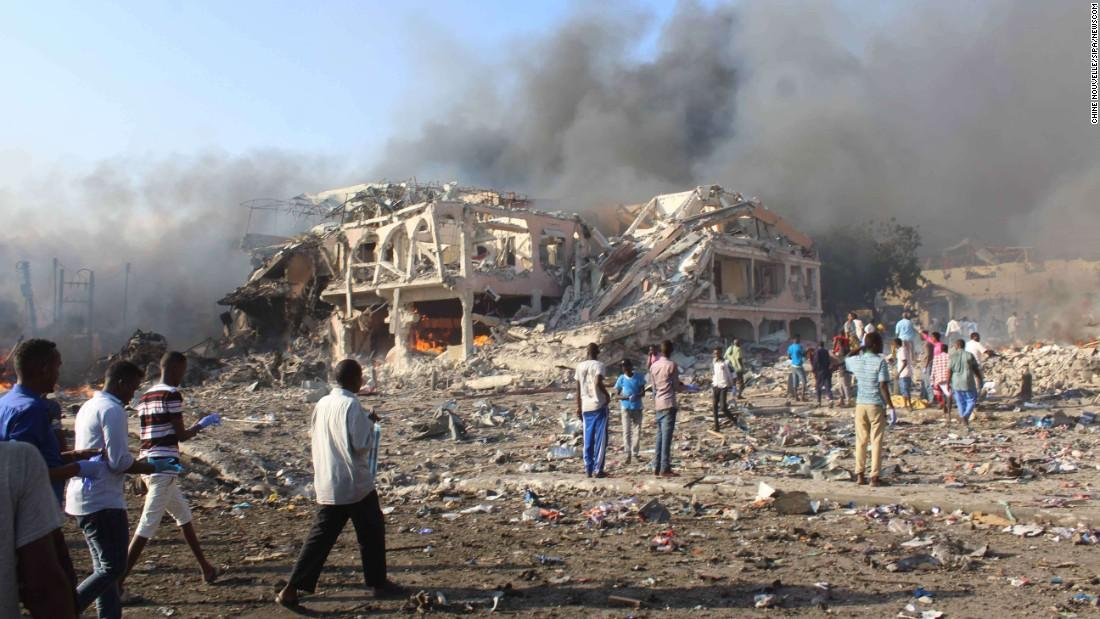fire: (415, 331, 444, 356), (74, 383, 98, 398), (472, 334, 493, 348), (0, 381, 12, 392)
smoke: (451, 1, 1090, 193), (0, 162, 224, 338), (791, 197, 1100, 258), (225, 148, 294, 236), (375, 125, 449, 187), (294, 148, 354, 188), (225, 237, 252, 289)
